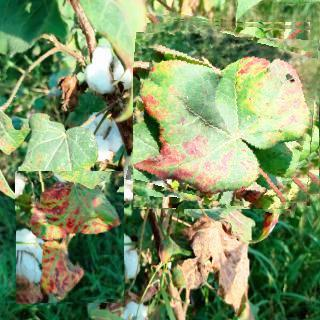blight: (133, 18, 320, 209), (16, 171, 124, 306)
